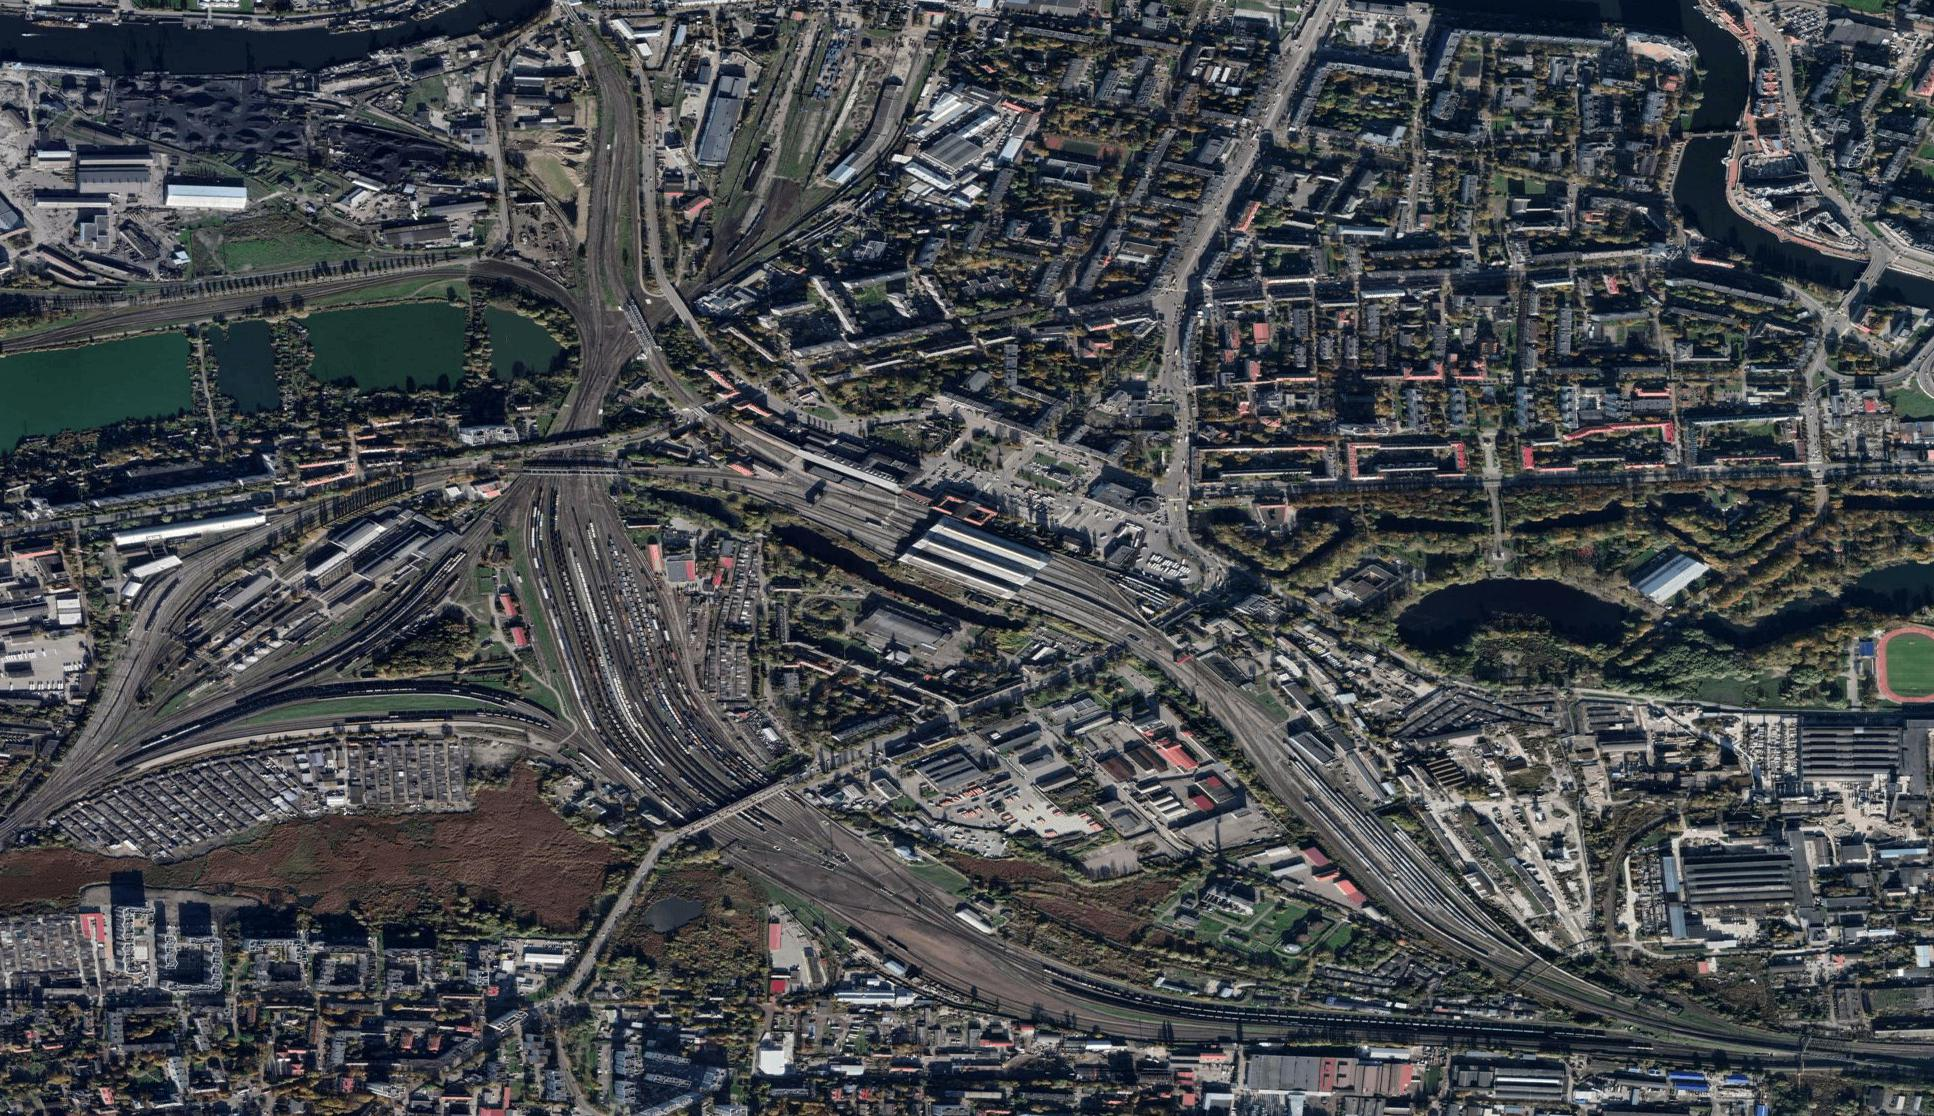bridge: (683, 779, 786, 828), (1844, 250, 1890, 302), (533, 457, 622, 484), (531, 429, 619, 454), (623, 306, 660, 349), (1686, 122, 1737, 146), (663, 279, 691, 322)
train_station: (135, 485, 485, 741), (863, 490, 1083, 622)
